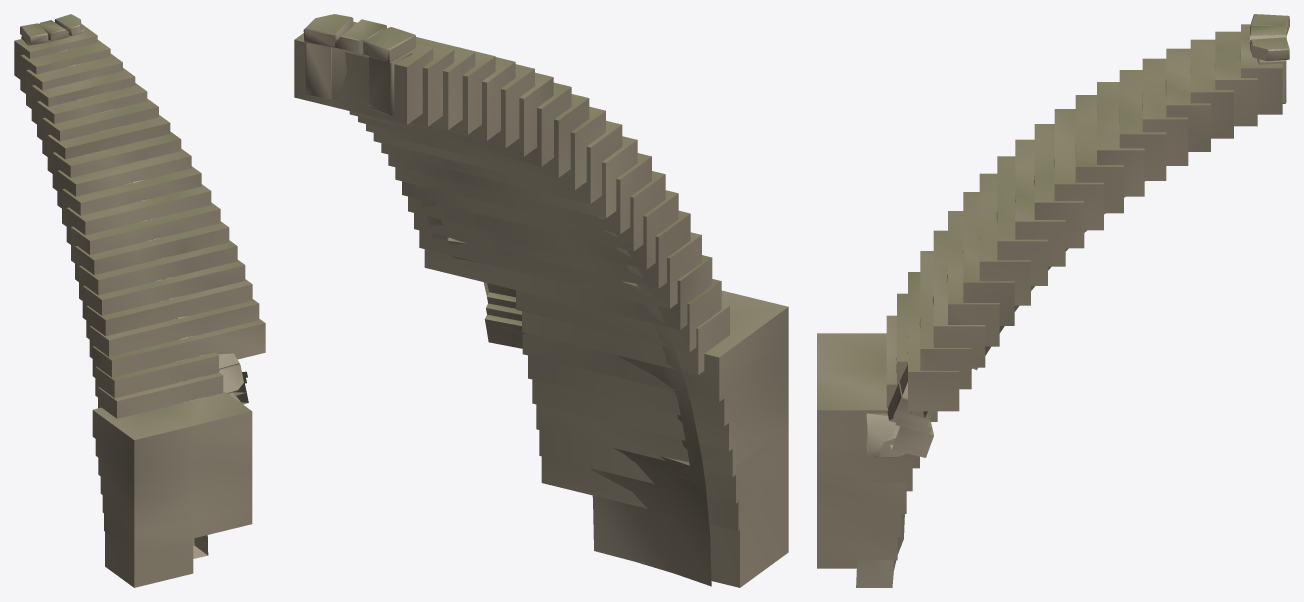
The model's file is dome_shell_bm2.glb.
3 views of the same model, side by side, from view 1: azimuth 30°, elevation 25°; view 2: azimuth 150°, elevation 25°; view 3: azimuth 270°, elevation 25° (orthographic). The views are drawn at different scales.
Parts seen in each view (by area): view 1: dome_shell_bm2_far, dome_shell_bm2; view 2: dome_shell_bm2_far, dome_shell_bm2; view 3: dome_shell_bm2_far, dome_shell_bm2.
Boxes of the visible parts, x1,y1,x2,y2 form: dome_shell_bm2_far: (14,24,265,587); dome_shell_bm2: (20,14,248,558); dome_shell_bm2_far: (294,21,788,587); dome_shell_bm2: (303,14,711,586); dome_shell_bm2_far: (817,24,1282,568); dome_shell_bm2: (856,14,1289,587).
Size of the model in its own units: 20.25 by 48.73 by 37.58.
